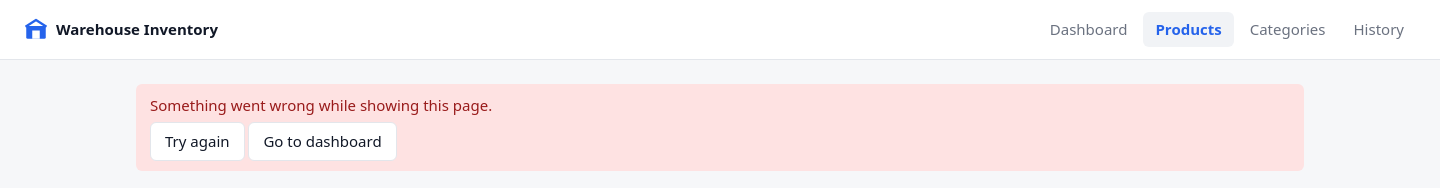
Test: MainLayout error boundary › keeps the navbar usable when a page crashes and recovers on navigation
Expected: the message shows "Something went wrong", 150,94 -> 492,114
Expected: the navigation bar named "Main" is shown, 1038,12 -> 1416,46
Click the link "Dashboard": (1089, 29) 1050,19 -> 1128,39
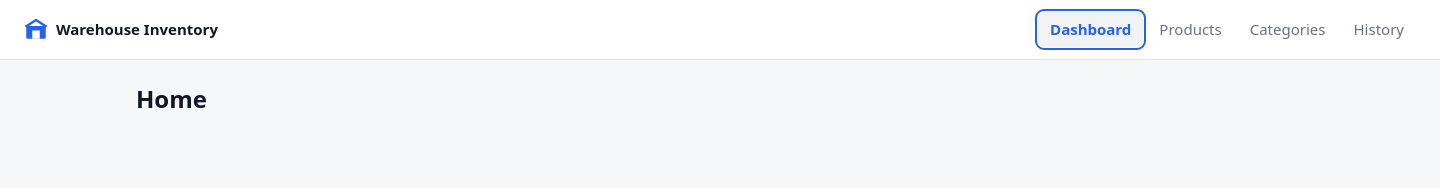
Expected: the heading "Home" is shown, 136,82 -> 207,114
Expected: the message "Something went wrong while showing this page. Try again Go to dashboard" is gone
